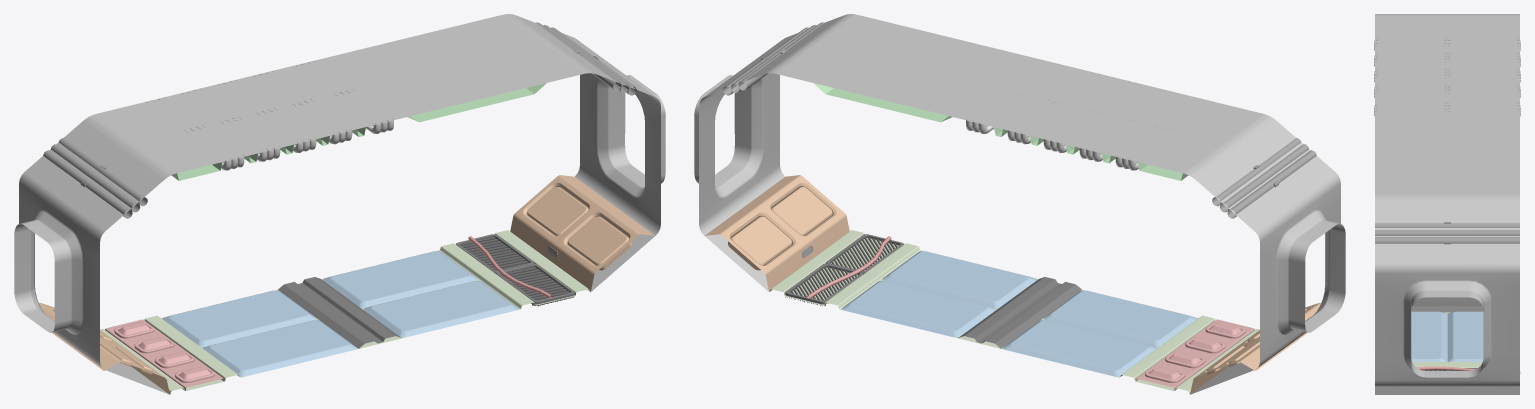
File: MOD_2.fbx
3 renders of one model, left to right at view 1: azimuth 30°, elevation 25°; view 2: azimuth 150°, elevation 25°; view 3: azimuth 270°, elevation 25°, orthographic. The views are drawn at different scales.
Visible parts, largest first — view 1: MOD_2; view 2: MOD_2; view 3: MOD_2.
Part boxes in pixels (box(x1,y1,x2,y2)): MOD_2: box(14, 14, 665, 394); MOD_2: box(694, 14, 1345, 394); MOD_2: box(1374, 14, 1520, 394).
Bounding box in the file's own units: 8.72 × 3.04 × 2.02.
